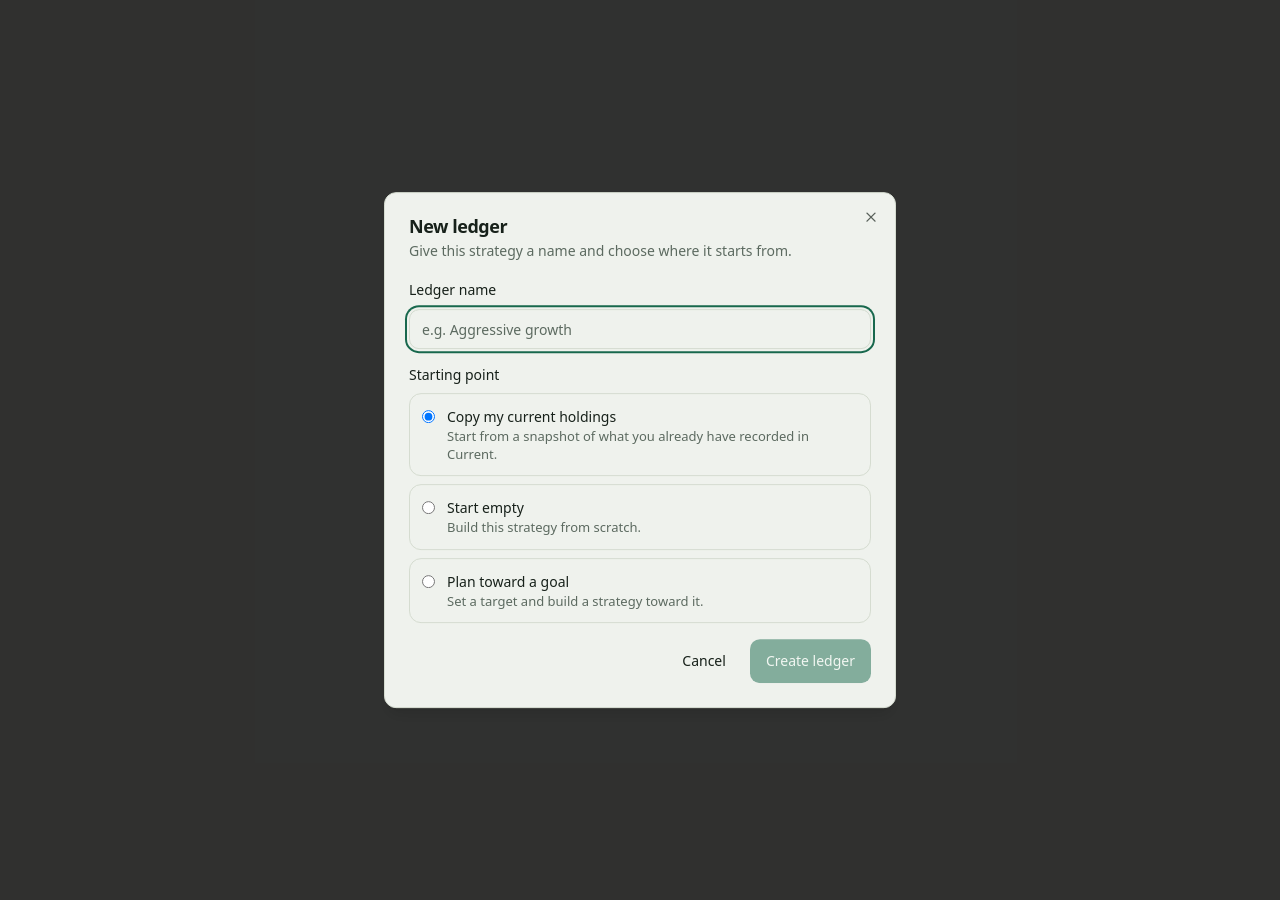
Test: goal step AI wiring — POST /api/ai-suggestions, kind: goal_plan › shows a generic error state for a provider failure, with no amount echoed anywhere in it
Click the radio button labelled "Plan toward a goal".
click(428, 581)  # box [422,575,435,588]
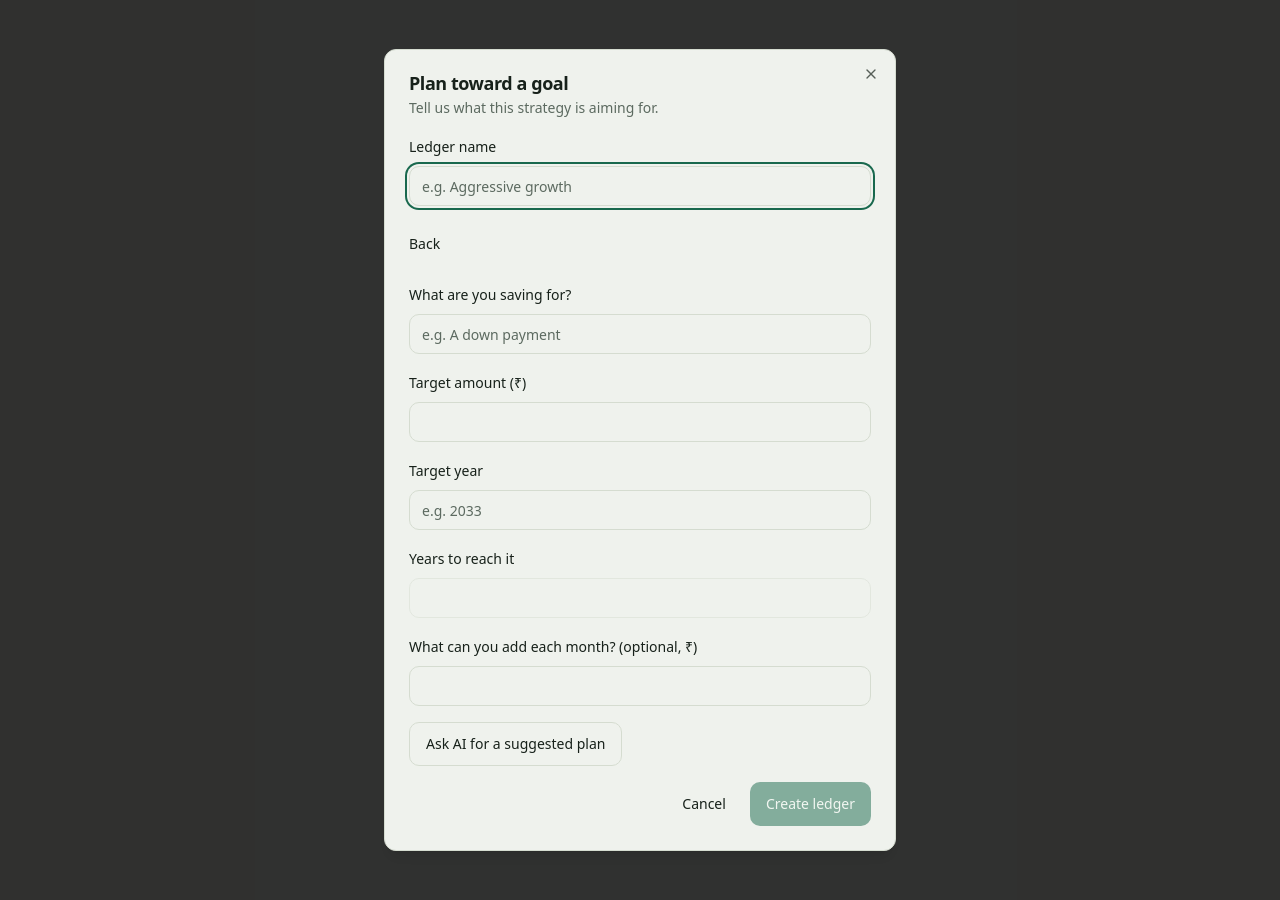
Type "Toward the house" into the field labelled "Ledger name".
click(640, 186); type("Toward the house")  # box [409,166,871,206]
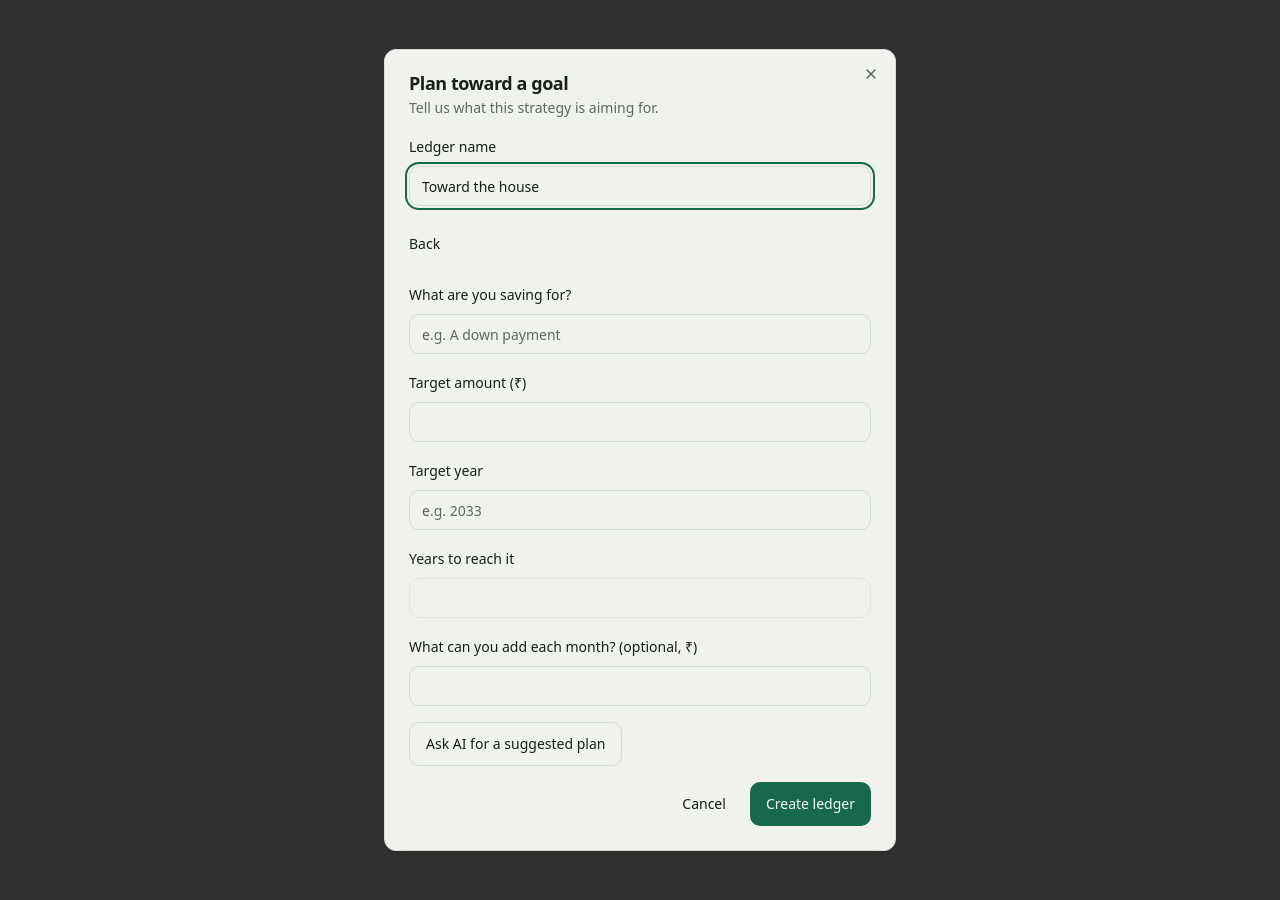
Type "A house" into the field labelled "What are you saving for?".
click(640, 334); type("A house")  # box [409,314,871,354]
Type "500000" into the number field labelled "Target amount (₹)".
click(640, 422); type("500000")  # box [409,402,871,442]
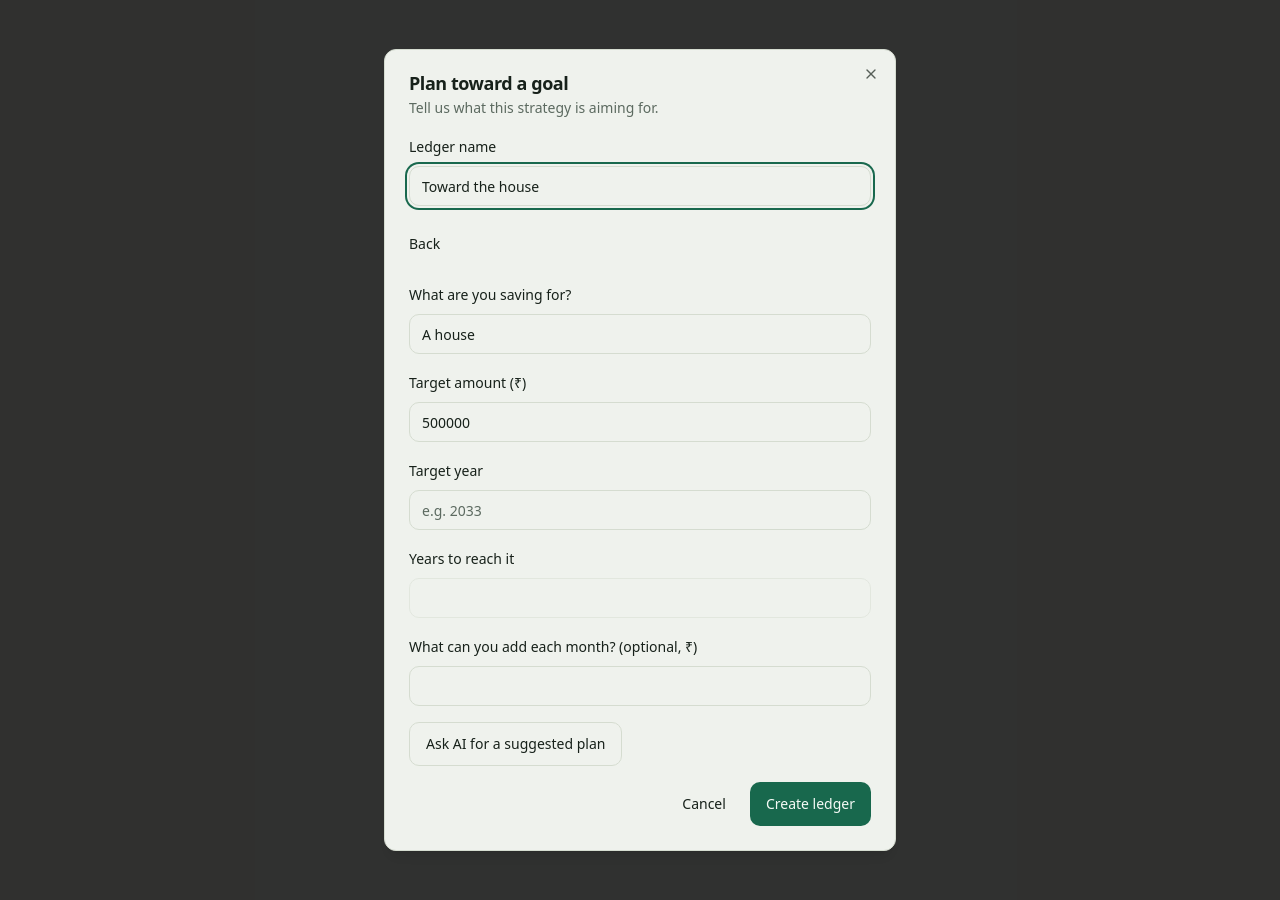
Type "2033" into the number field labelled "Target year".
click(640, 510); type("2033")  # box [409,490,871,530]
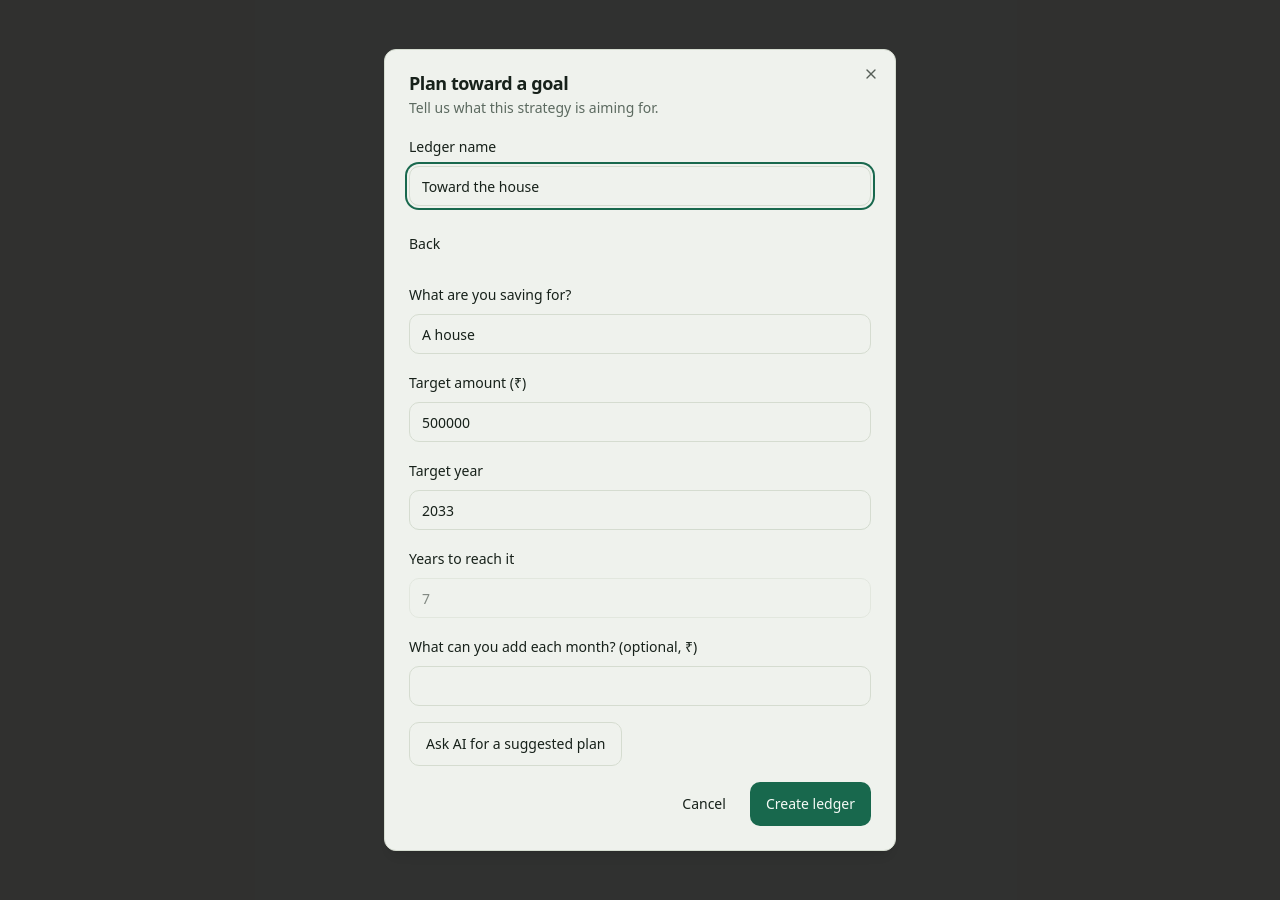
Click the button "Ask AI for a suggested plan".
click(516, 744)  # box [409,722,622,766]
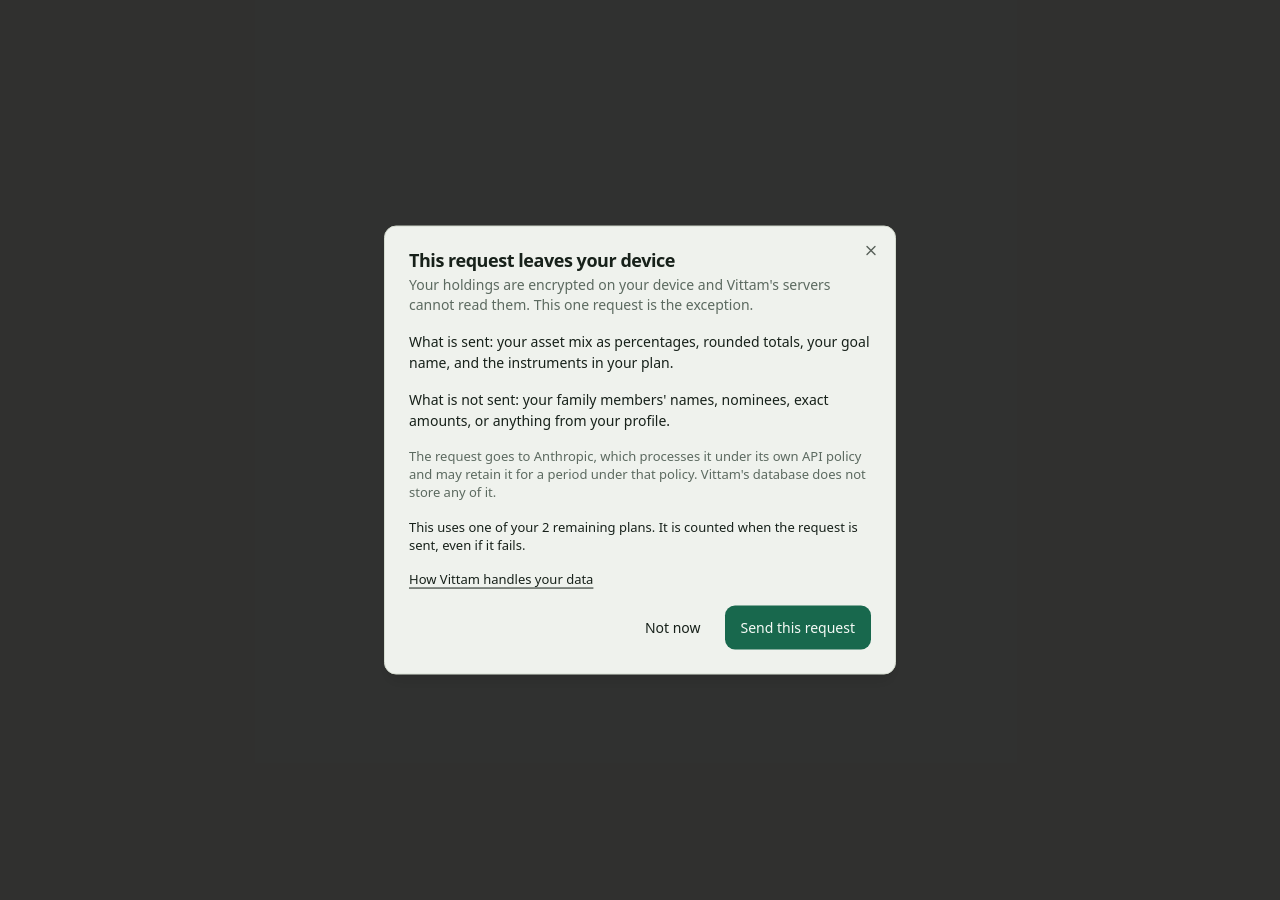
Click the button "Send this request".
click(798, 628)  # box [724,606,871,650]
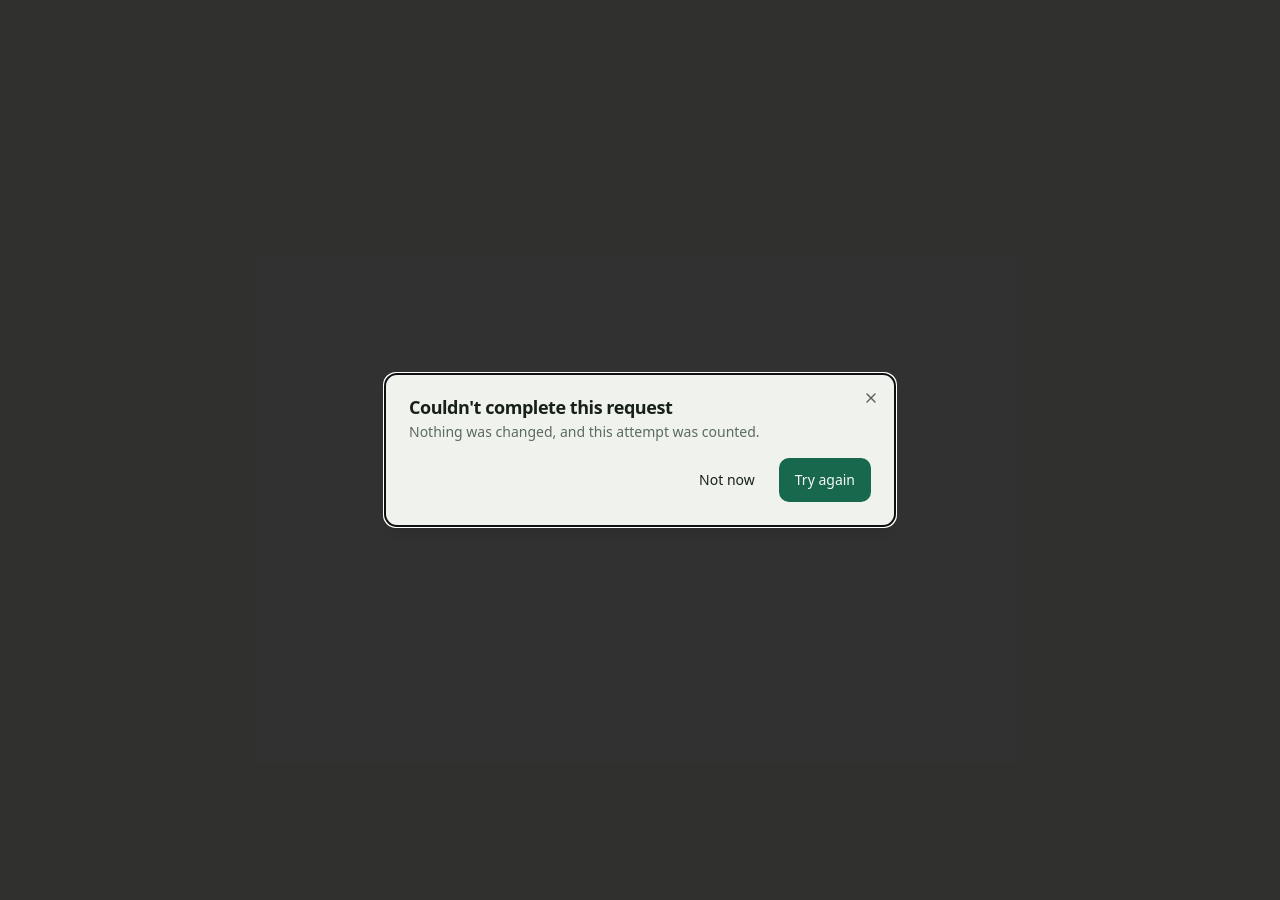
expect the heading "Couldn't complete this request" is shown: met, box [409,395,672,419]
